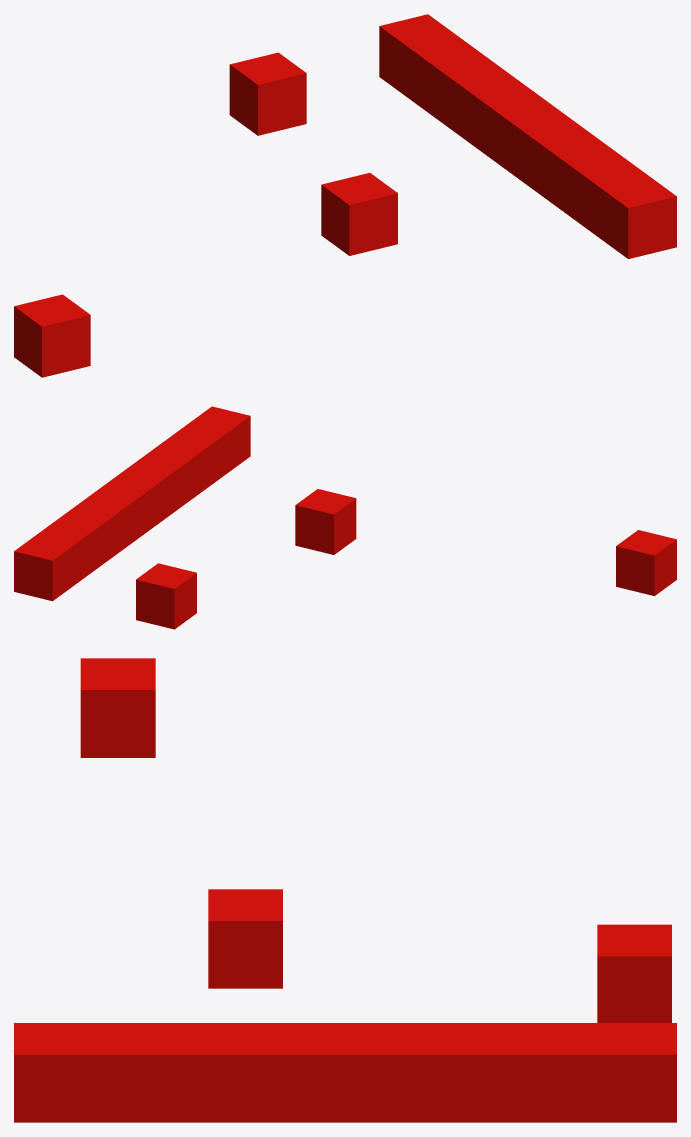
File: furniture_3.glb
The picture shows the model from 3 angles, top to bottom: view 1: azimuth 30°, elevation 25°; view 2: azimuth 150°, elevation 25°; view 3: azimuth 270°, elevation 25°; orthographic projection. The views are drawn at different scales.
Parts seen in each view (by area): view 1: terrace_f3.glb, room2_f3.glb, salon_f3.glb, room1_f3.glb; view 2: terrace_f3.glb, salon_f3.glb, room2_f3.glb, room1_f3.glb; view 3: terrace_f3.glb, room1_f3.glb, salon_f3.glb, room2_f3.glb.
Part boxes in pixels (x1,y1,x2,y2): terrace_f3.glb: (379,14,676,258); room2_f3.glb: (229,52,306,135); salon_f3.glb: (321,173,397,255); room1_f3.glb: (14,294,90,377); terrace_f3.glb: (14,406,250,601); salon_f3.glb: (295,489,356,554); room2_f3.glb: (136,563,196,629); room1_f3.glb: (616,530,676,595); terrace_f3.glb: (14,1023,676,1122); room1_f3.glb: (80,658,155,757); salon_f3.glb: (208,889,282,988); room2_f3.glb: (597,924,671,1022).
Size of the model in its own units: 8.77 by 0.7 by 6.2.
